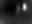person: (22, 4, 29, 15), (17, 5, 22, 17)
